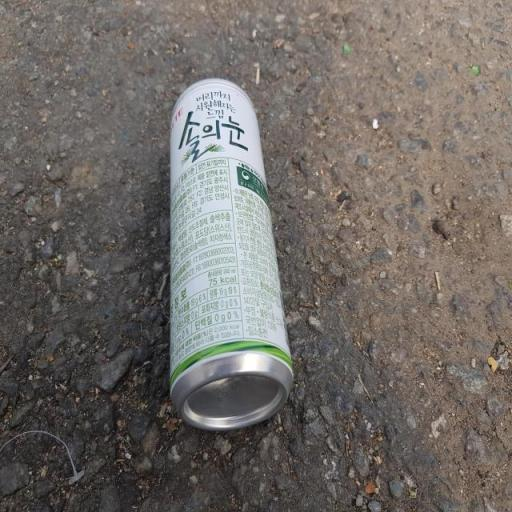metal: (134, 48, 306, 468)
